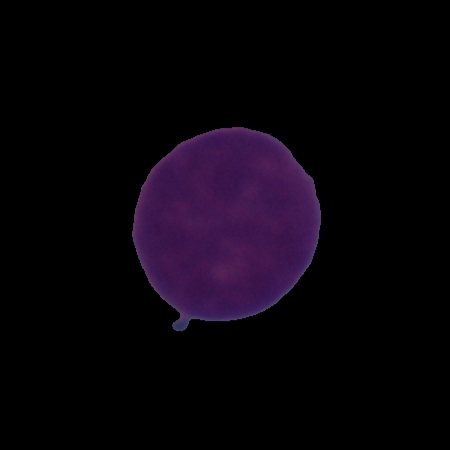ALL: (127, 122, 326, 335)
